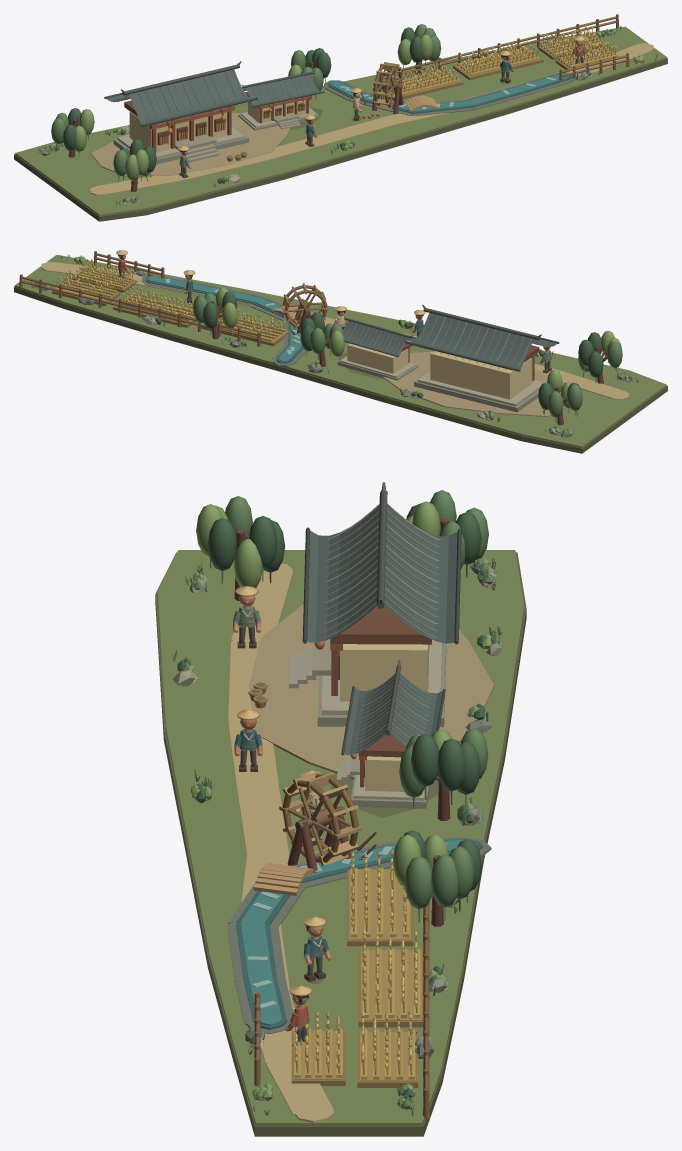
The model's file is tang.glb.
3 renders of one model, top to bottom at view 1: azimuth 30°, elevation 25°; view 2: azimuth 150°, elevation 25°; view 3: azimuth 270°, elevation 25°, orthographic. The views are drawn at different scales.
Parts seen in each view (by area): view 1: TerrainAndBuildings, WaterWheelPivot; view 2: TerrainAndBuildings, WaterWheelPivot; view 3: TerrainAndBuildings, WaterWheelPivot.
Boxes of the visible parts, x1=… form: TerrainAndBuildings: x1=14, y1=14, x2=667, y2=221; WaterWheelPivot: x1=372, y1=62, x2=403, y2=109; TerrainAndBuildings: x1=14, y1=251, x2=667, y2=453; WaterWheelPivot: x1=281, y1=283, x2=328, y2=329; TerrainAndBuildings: x1=155, y1=482, x2=526, y2=1136; WaterWheelPivot: x1=279, y1=771, x2=361, y2=865.
Size of the model in its own units: 1.73 by 0.214 by 0.4717.
